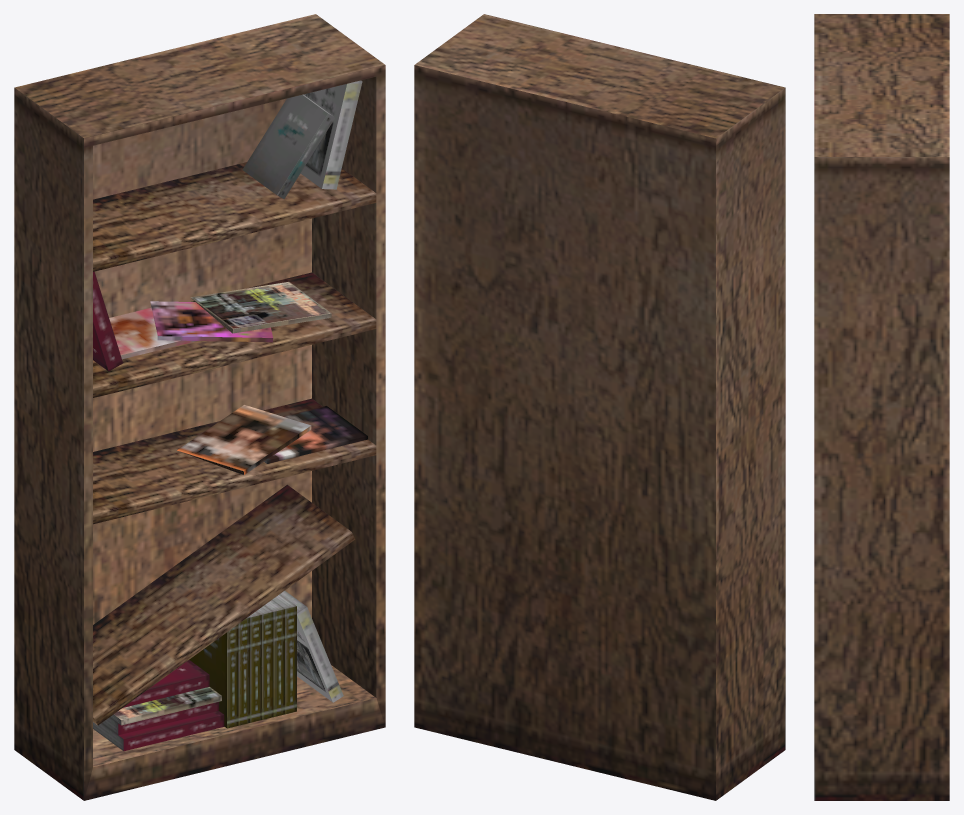
The model's file is lrgbkshelf_slum.fbx.
3 renders of one model, left to right at view 1: azimuth 30°, elevation 25°; view 2: azimuth 150°, elevation 25°; view 3: azimuth 270°, elevation 25°, orthographic. The views are drawn at different scales.
Parts seen in each view (by area): view 1: mesh_0; view 2: mesh_0; view 3: mesh_0.
Boxes of the visible parts, left/top/right/bottom form: mesh_0: left=14, top=14, right=385, bottom=800; mesh_0: left=414, top=14, right=785, bottom=800; mesh_0: left=814, top=14, right=949, bottom=800.
Bounding box in the file's own units: 100 × 210 × 40.
Materials: 1 (1 with a texture image).
